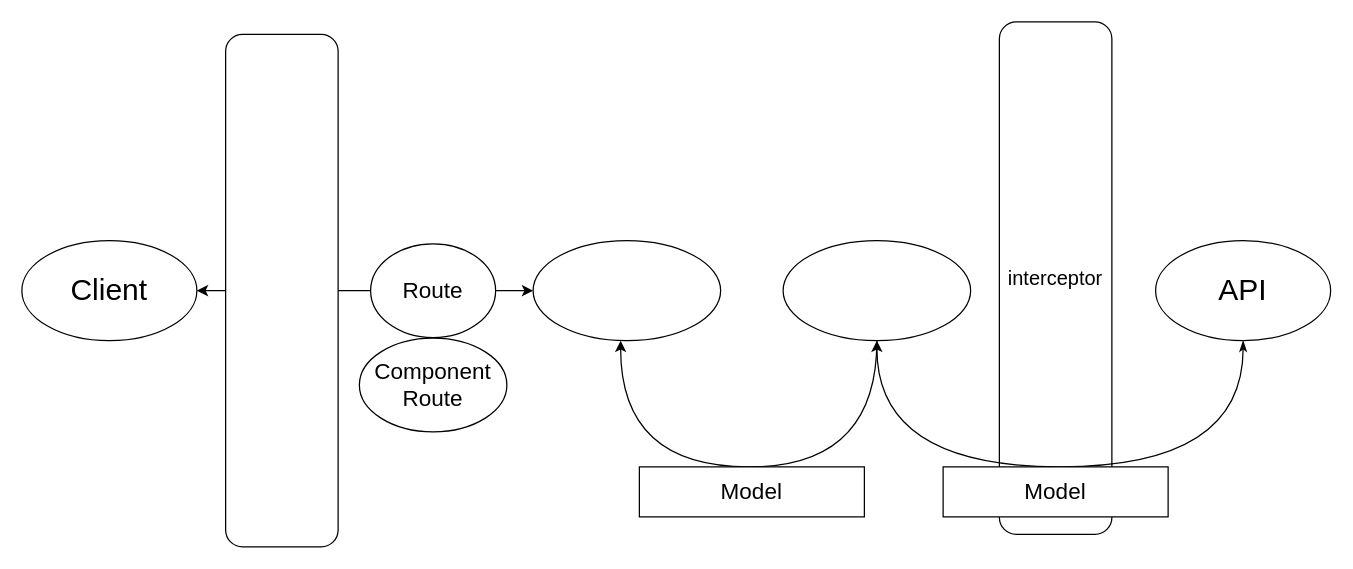
This 1353x569 diagram has some shape labels left out. The shapes that lost their labels are listed below. From the top down, each one's centre as x and y in pixels, then its label:
[281,290]: guard
[626,290]: View
[876,290]: Service
